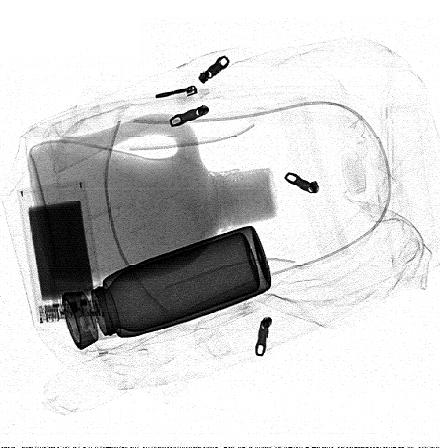Powerbank: (17, 180, 106, 325)
